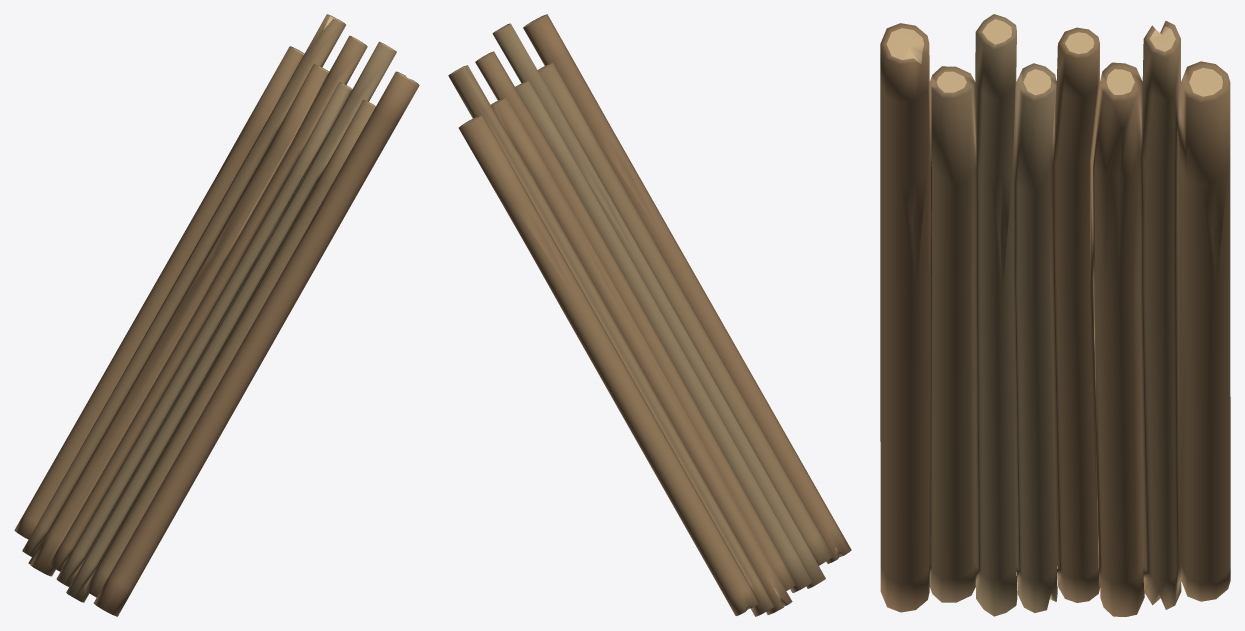
File: rpgpp_ag_roof_01b_6x5x3_half.fbx
3 renders of one model, left to right at view 1: azimuth 30°, elevation 25°; view 2: azimuth 150°, elevation 25°; view 3: azimuth 270°, elevation 25°, orthographic. The views are drawn at different scales.
Visible parts, largest first — view 1: rpgpp_ag_roof_01b_6x5x3_half; view 2: rpgpp_ag_roof_01b_6x5x3_half; view 3: rpgpp_ag_roof_01b_6x5x3_half.
Part boxes in pixels (<box>): rpgpp_ag_roof_01b_6x5x3_half: <box>14,14,419,616</box>; rpgpp_ag_roof_01b_6x5x3_half: <box>448,14,851,616</box>; rpgpp_ag_roof_01b_6x5x3_half: <box>880,14,1230,616</box>.
Size of the model in its own units: 5.75 by 8.11 by 3.
